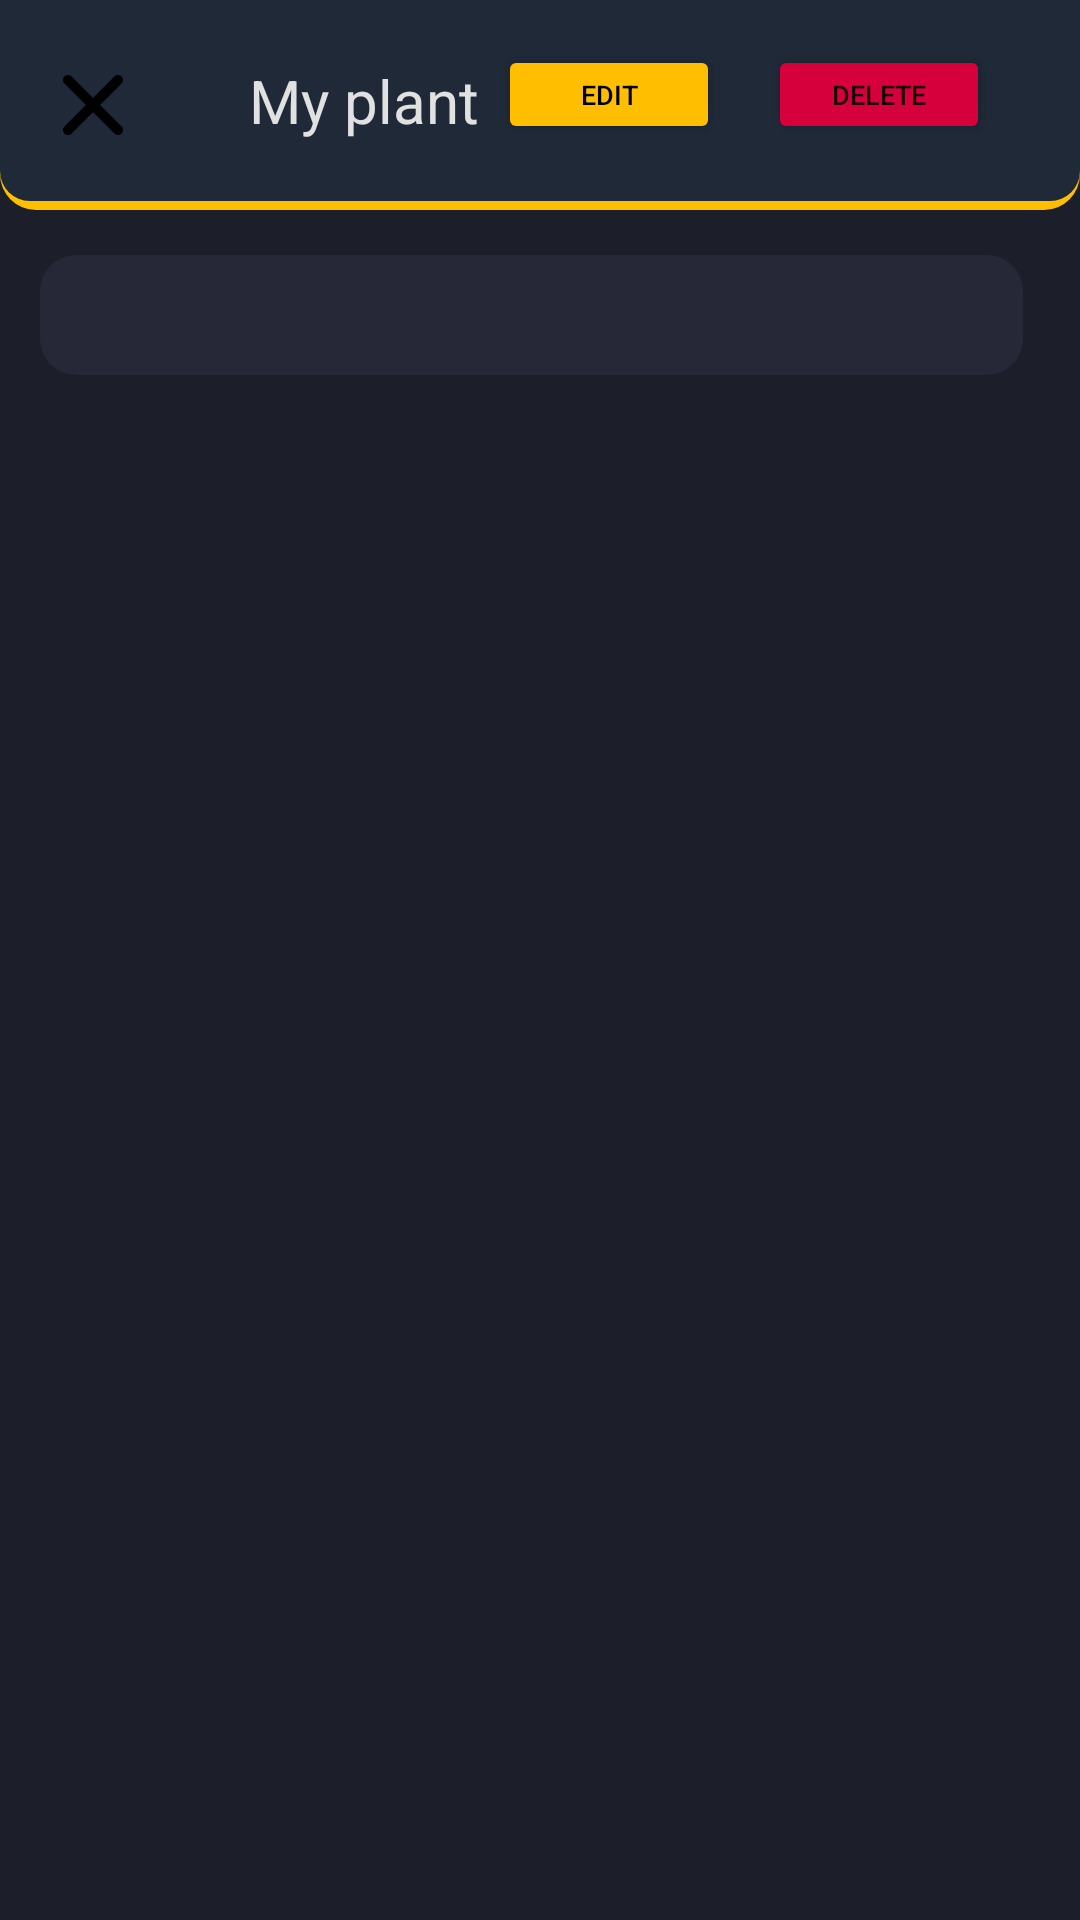

Screen size 1080x1920. Icon name, then its center in pixels as point (x, y):
cross: point (93, 105)
